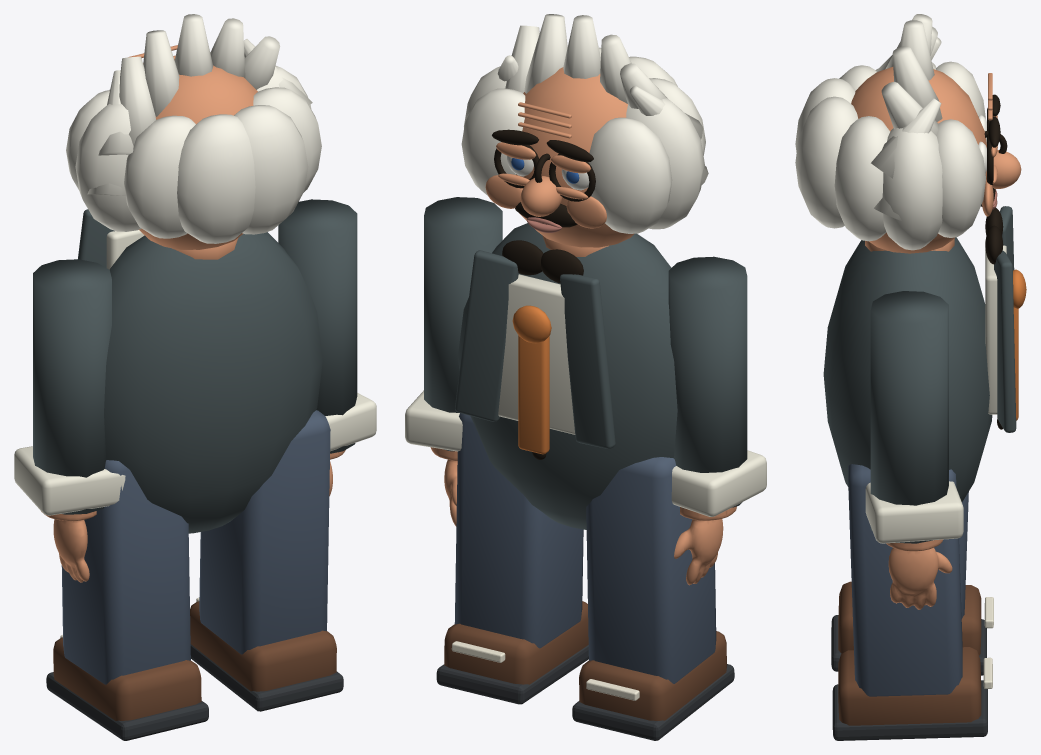
File: einstein-custom.glb
3 views of the same model, side by side, from view 1: azimuth 30°, elevation 25°; view 2: azimuth 150°, elevation 25°; view 3: azimuth 270°, elevation 25° (orthographic).
Parts seen in each view (by area): view 1: Torso, Right_Leg, Left_Leg, Left_Arm, Right_Arm, Hair_2, Hair_3, Left_Shoe, Right_Shoe, Hair_1, Hair_0, Head (+15 smaller); view 2: Torso, Left_Leg, Right_Leg, Left_Arm, Right_Arm, Hair_6, Head, Lapels_R, Lapels_L, Shirtfront, Left_Shoe, Right_Shoe (+25 smaller); view 3: Torso, Right_Arm, Right_Leg, Right_Shoe, Hair_5, Hair_4, Hair_3, Hair_7, RCuff, Head, Right_Hand, Lapels_R (+17 smaller).
Part boxes in pixels (<box>): Torso: <box>104,232,322,533</box>; Right_Leg: <box>199,410,330,654</box>; Left_Leg: <box>61,460,190,684</box>; Left_Arm: <box>33,259,111,514</box>; Right_Arm: <box>278,199,357,453</box>; Hair_2: <box>177,114,255,243</box>; Hair_3: <box>234,105,308,234</box>; Left_Shoe: <box>53,637,201,720</box>; Right_Shoe: <box>190,601,336,691</box>; Hair_1: <box>124,115,195,238</box>; Hair_0: <box>75,104,141,231</box>; Head: <box>139,65,257,249</box>; Torso: <box>458,223,677,529</box>; Left_Leg: <box>586,457,716,683</box>; Right_Leg: <box>454,413,583,648</box>; Left_Arm: <box>668,256,747,508</box>; Right_Arm: <box>424,197,502,451</box>; Hair_6: <box>588,117,672,233</box>; Head: <box>516,67,634,247</box>; Lapels_R: <box>455,250,518,421</box>; Lapels_L: <box>560,274,615,448</box>; Shirtfront: <box>498,274,575,434</box>; Left_Shoe: <box>579,631,726,720</box>; Right_Shoe: <box>444,601,588,684</box>; Torso: <box>823,237,992,501</box>; Right_Arm: <box>870,291,948,543</box>; Right_Leg: <box>848,464,962,696</box>; Right_Shoe: <box>838,647,981,725</box>; Hair_5: <box>882,128,942,250</box>; Hair_4: <box>834,116,890,241</box>; Hair_3: <box>795,96,858,228</box>; Hair_7: <box>936,119,985,237</box>; RCuff: <box>865,481,963,543</box>; Head: <box>851,67,986,253</box>; Right_Hand: <box>886,539,952,609</box>; Lapels_R: <box>994,250,1016,432</box>.
Bounding box in the file's own units: 2.12 × 4.08 × 1.29.
